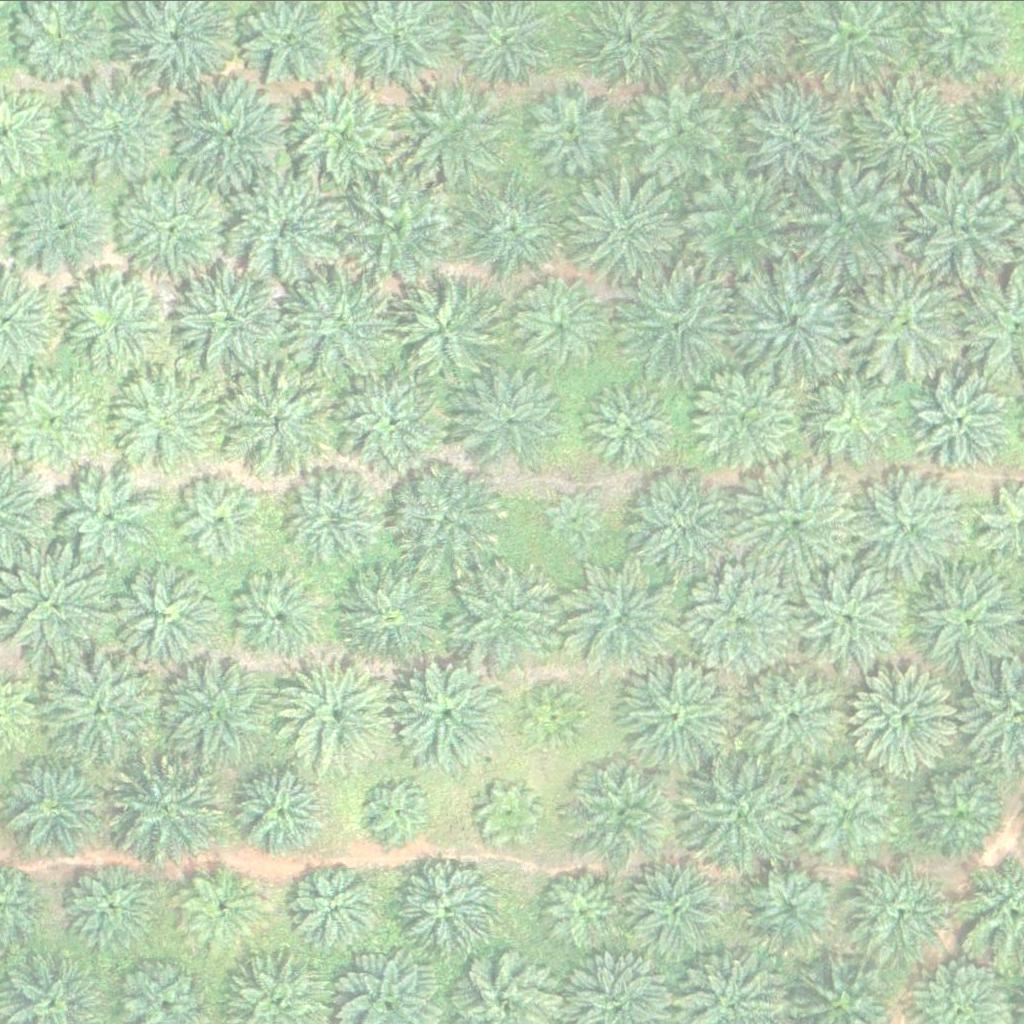Kelapa_Sawit: (113, 755, 227, 868), (679, 173, 793, 286), (615, 267, 729, 380), (459, 361, 573, 474), (789, 166, 903, 279), (222, 749, 335, 862), (284, 657, 397, 770), (112, 360, 225, 473), (221, 368, 334, 481), (5, 171, 118, 284), (59, 68, 172, 181), (169, 76, 282, 189), (290, 74, 403, 187), (289, 263, 402, 376), (388, 272, 501, 385), (737, 267, 850, 380), (340, 363, 453, 476), (561, 564, 674, 677), (684, 560, 797, 673), (395, 655, 508, 768), (621, 658, 734, 771), (851, 658, 964, 771), (796, 565, 909, 678), (910, 562, 1023, 675), (850, 266, 963, 379), (909, 171, 1022, 284), (45, 650, 159, 762), (157, 653, 271, 765), (225, 556, 339, 668), (740, 79, 854, 191), (394, 462, 508, 574), (337, 559, 451, 671), (848, 71, 962, 183), (108, 555, 221, 667), (176, 261, 289, 373), (119, 173, 232, 285), (231, 172, 344, 284), (401, 73, 514, 185), (341, 170, 454, 282), (453, 174, 566, 286), (565, 172, 678, 284), (692, 361, 805, 473), (626, 467, 739, 579), (739, 465, 852, 577), (450, 556, 563, 668), (740, 659, 853, 771), (567, 755, 680, 867), (689, 756, 802, 868), (394, 847, 507, 959), (625, 853, 738, 965), (857, 471, 970, 583), (57, 468, 158, 568), (3, 372, 104, 472), (63, 272, 164, 372), (527, 79, 628, 179), (630, 79, 731, 179), (742, 857, 843, 957), (797, 757, 898, 857), (907, 756, 1008, 856), (797, 368, 898, 468), (908, 372, 1009, 472), (63, 855, 163, 955), (286, 465, 386, 565), (509, 275, 609, 375), (578, 377, 678, 477), (847, 854, 947, 954), (295, 862, 383, 950), (535, 865, 623, 953), (179, 863, 267, 950), (176, 472, 264, 559), (522, 684, 585, 747), (368, 776, 431, 839), (479, 781, 542, 844), (542, 488, 605, 550)
